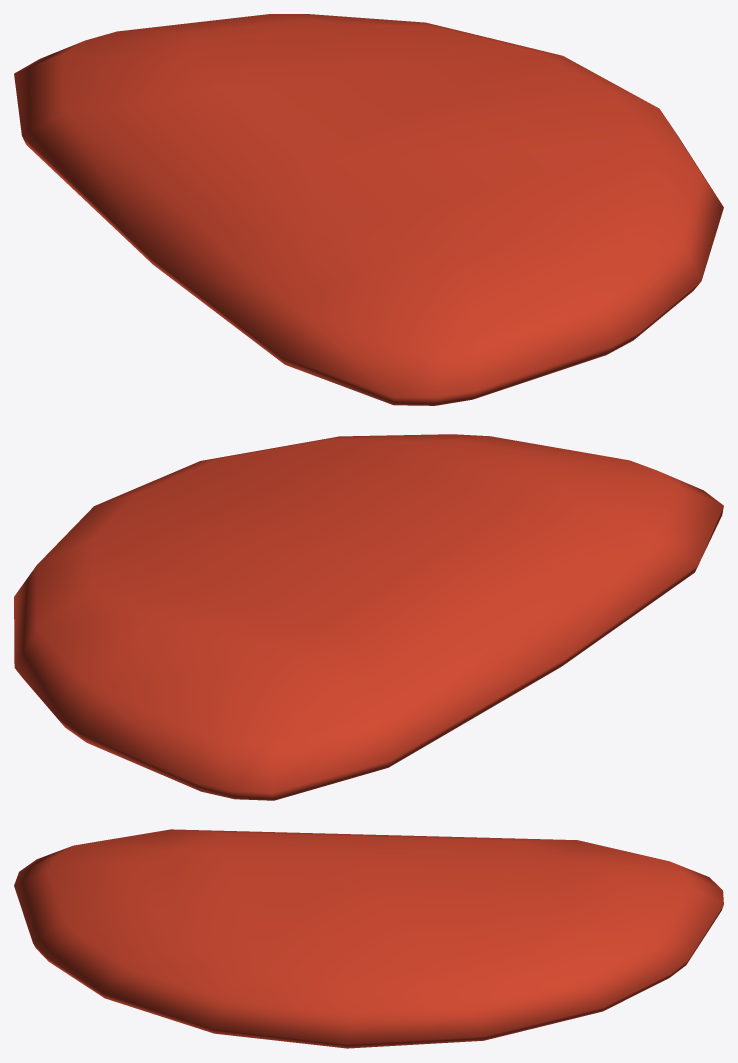
The model's file is setalateral_low.fbx.
3 renders of one model, top to bottom at view 1: azimuth 30°, elevation 25°; view 2: azimuth 150°, elevation 25°; view 3: azimuth 270°, elevation 25°, orthographic. The views are drawn at different scales.
Visible parts, largest first — view 1: setalateral_low; view 2: setalateral_low; view 3: setalateral_low.
Part boxes in pixels (bbox=[...]): setalateral_low: bbox=[14, 14, 723, 405]; setalateral_low: bbox=[14, 434, 723, 800]; setalateral_low: bbox=[14, 829, 723, 1048].
Size of the model in its own units: 90.8 by 12.84 by 135.
